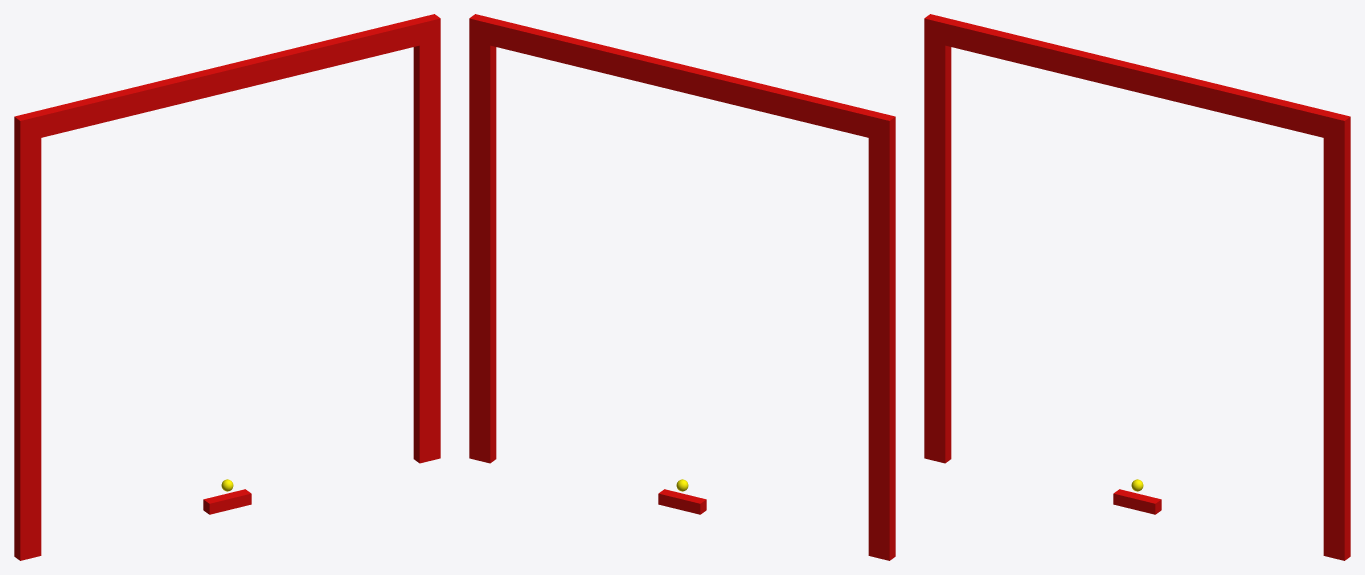
File: barra_pelota_y_pared.glb
3 renders of one model, left to right at view 1: azimuth 30°, elevation 25°; view 2: azimuth 150°, elevation 25°; view 3: azimuth 330°, elevation 25°, orthographic.
Parts seen in each view (by area): view 1: paredes, barra; view 2: paredes, barra; view 3: paredes, barra.
Boxes of the visible parts, x1,y1,x2,y2 form: paredes: (14,14,440,560); barra: (203,489,251,514); paredes: (469,14,895,560); barra: (658,489,706,514); paredes: (924,14,1350,560); barra: (1113,489,1161,514).
Size of the model in its own units: 40 by 40 by 1.
